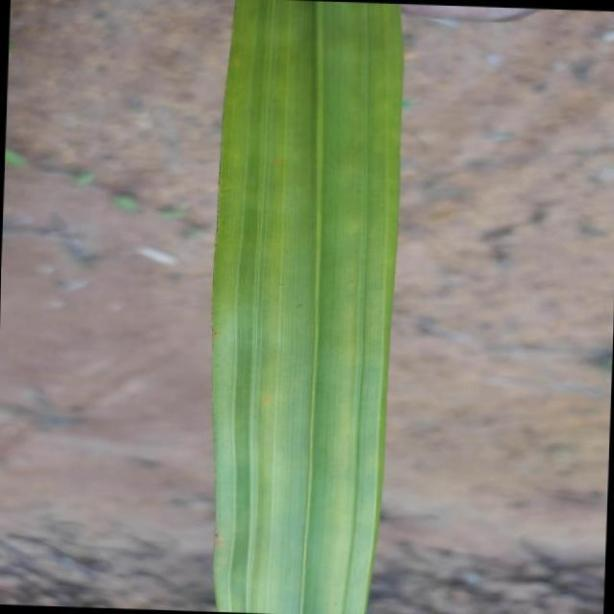nitrogen: (211, 0, 403, 614)
